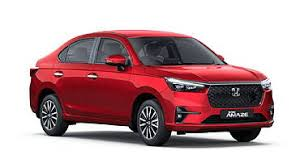car: (29, 27, 274, 149)
